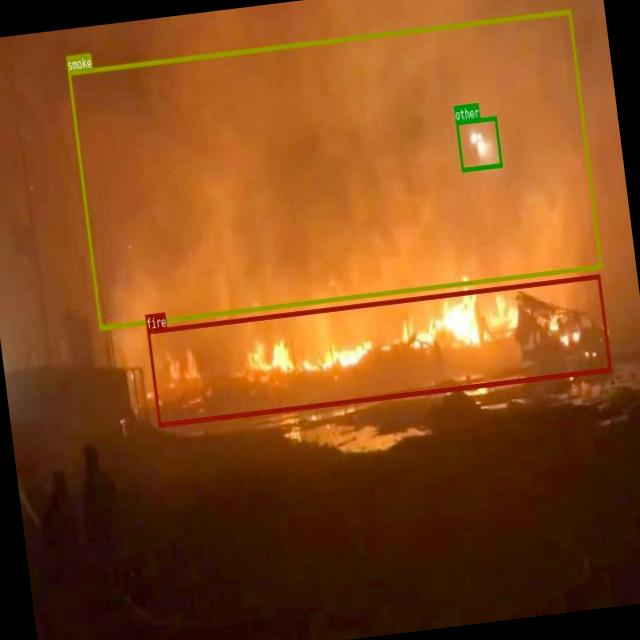fire: (145, 273, 610, 426)
smoke: (67, 8, 601, 329)
